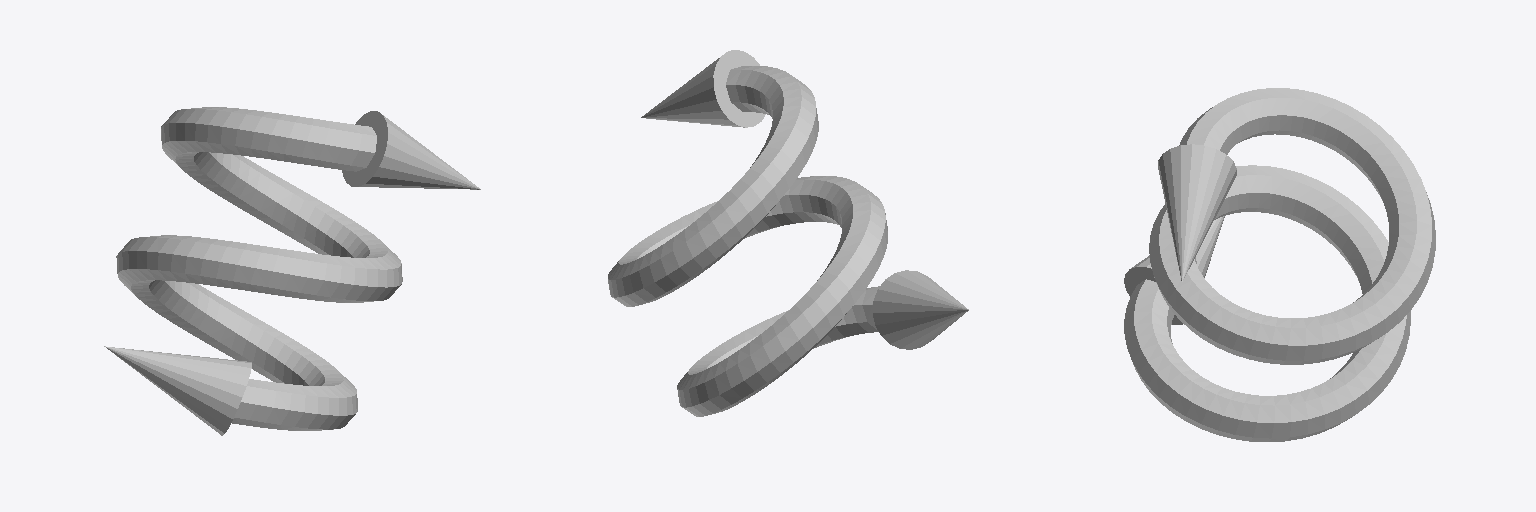
Rendered from Malus_inverse.obj.
3 views of the same model, side by side, from view 1: azimuth 30°, elevation 25°; view 2: azimuth 150°, elevation 25°; view 3: azimuth 270°, elevation 25° (orthographic).
Parts seen in each view (by area): view 1: polySurface7; view 2: polySurface7; view 3: polySurface7.
Part boxes in pixels (x1,y1,x2,y2): polySurface7: (104, 107, 480, 435); polySurface7: (608, 50, 968, 416); polySurface7: (1124, 88, 1435, 441).
Size of the model in its own units: 2.55 by 2.16 by 1.95.